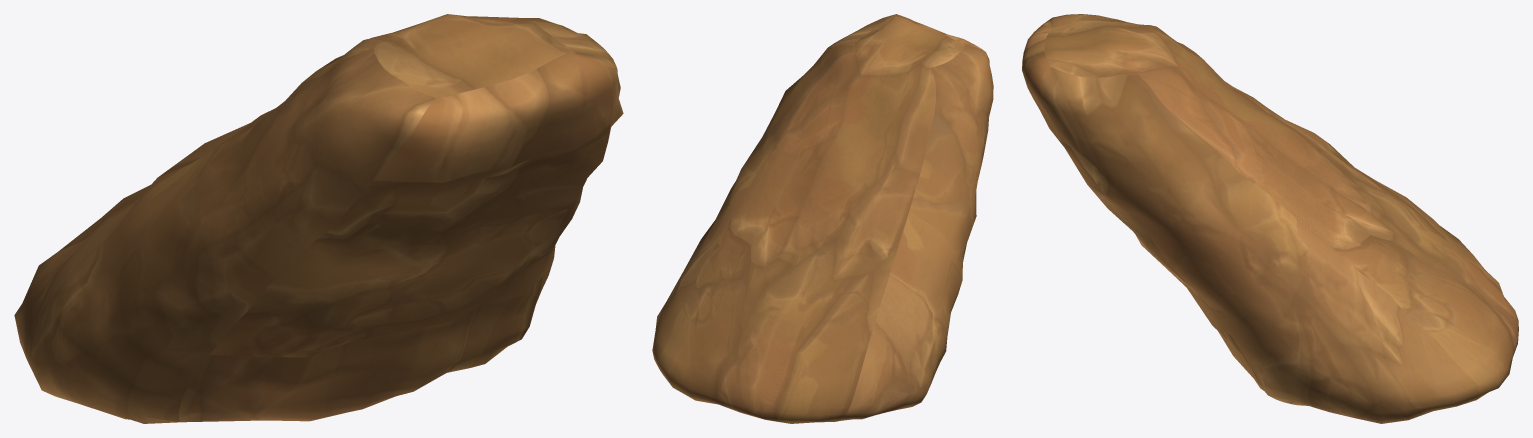
The model's file is Low_islands9.fbx.
3 views of the same model, side by side, from view 1: azimuth 30°, elevation 25°; view 2: azimuth 150°, elevation 25°; view 3: azimuth 270°, elevation 25° (orthographic). The views are drawn at different scales.
Visible parts, largest first — view 1: Cube.011; view 2: Cube.011; view 3: Cube.011.
Part boxes in pixels (box(x1,y1,x2,y2)): Cube.011: box(14, 14, 623, 423); Cube.011: box(652, 14, 993, 423); Cube.011: box(1022, 14, 1518, 423).
Size of the model in its own units: 1322 by 1281 by 1733.
Materials: 1 (1 with a texture image).
